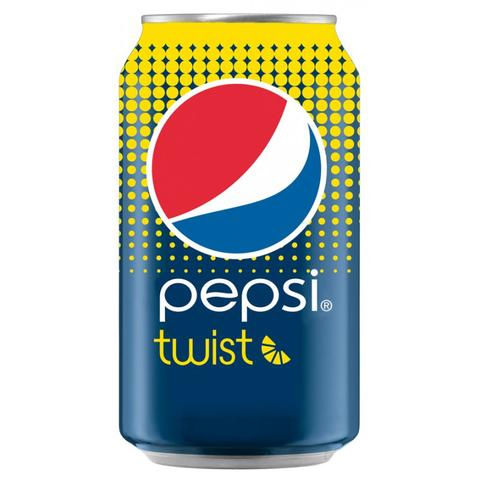pepsi: (145, 76, 327, 257), (148, 80, 327, 257)
